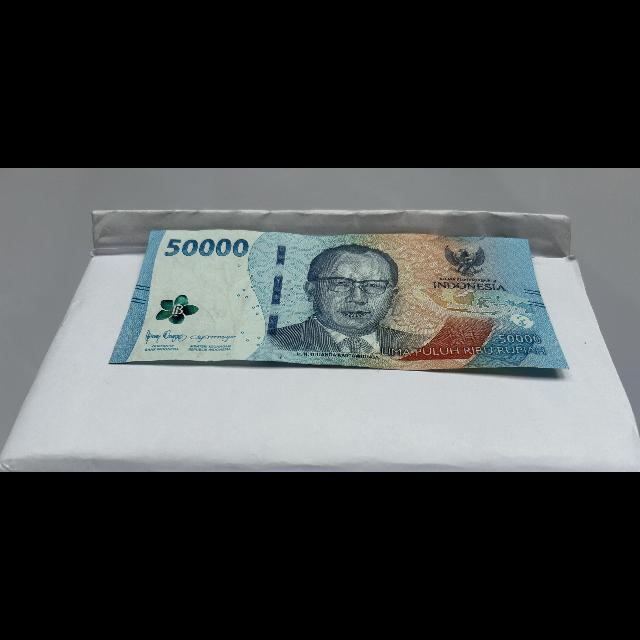Asli-50k: (105, 226, 575, 376)
Tinta-Asli-50k: (153, 293, 202, 326)
